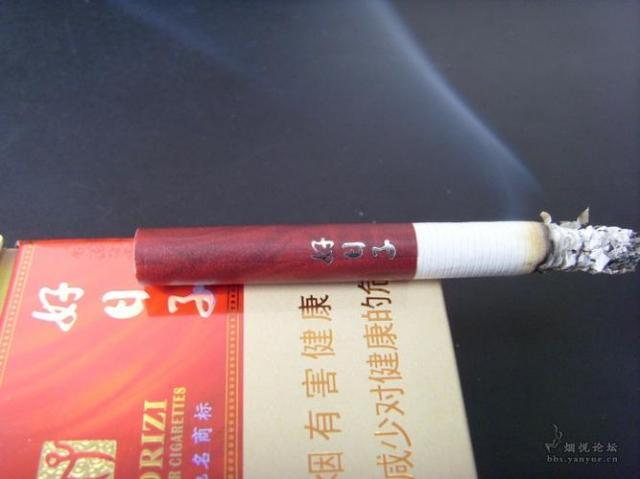Smoking: (134, 221, 640, 285)
